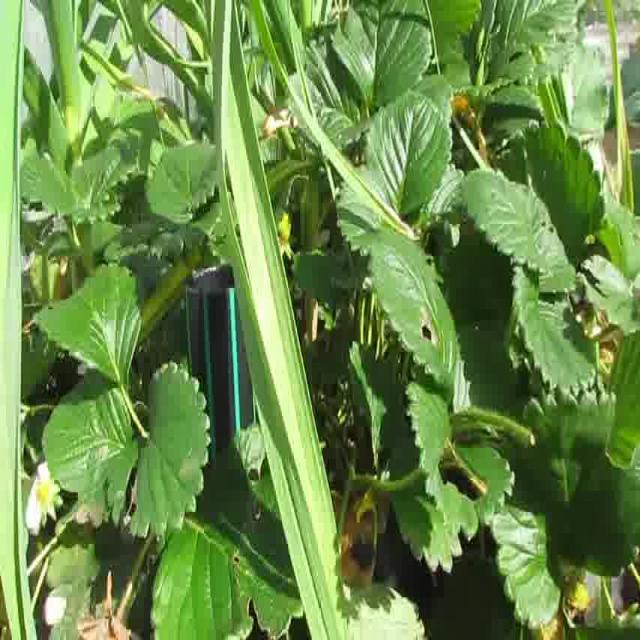Fruta sana: (530, 607, 566, 640), (562, 578, 590, 612), (277, 208, 292, 242)
Moho gris: (75, 616, 133, 640)
